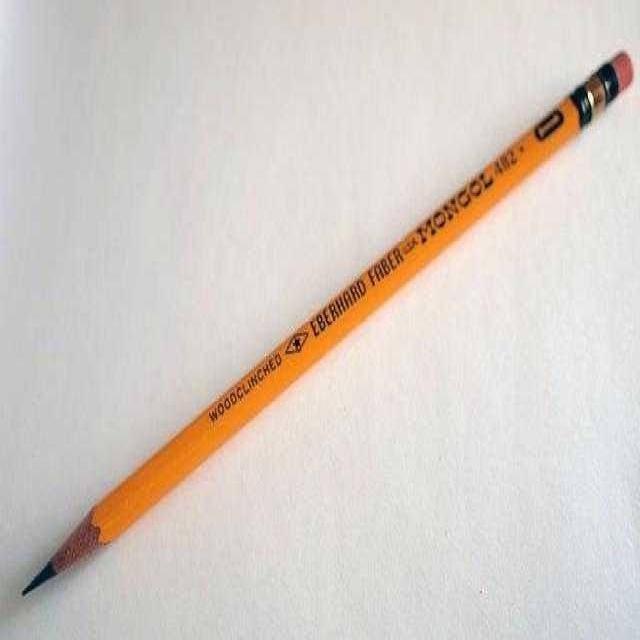pencil: (13, 37, 638, 628)
